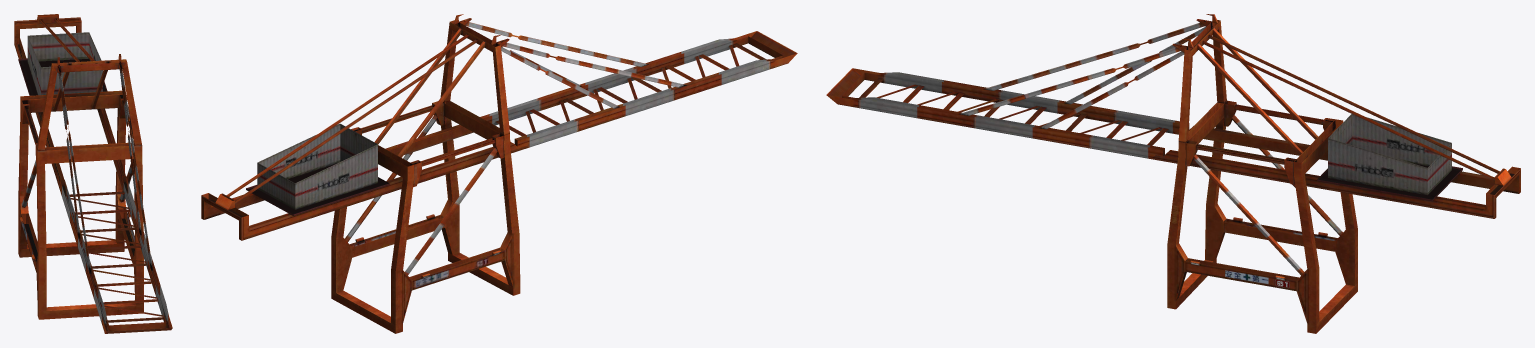
The model's file is qizhongji_edit.fbx.
3 views of the same model, side by side, from view 1: azimuth 30°, elevation 25°; view 2: azimuth 150°, elevation 25°; view 3: azimuth 270°, elevation 25° (orthographic). The views are drawn at different scales.
Parts seen in each view (by area): view 1: tok_zone_30_31_32_Levelshapes_Crane_LOD1; view 2: tok_zone_30_31_32_Levelshapes_Crane_LOD1; view 3: tok_zone_30_31_32_Levelshapes_Crane_LOD1.
Boxes of the visible parts, x1,y1,x2,y2 form: tok_zone_30_31_32_Levelshapes_Crane_LOD1: (14,14,172,333); tok_zone_30_31_32_Levelshapes_Crane_LOD1: (201,14,797,333); tok_zone_30_31_32_Levelshapes_Crane_LOD1: (826,14,1520,333).
Size of the model in its own units: 101 by 86.12 by 207.
